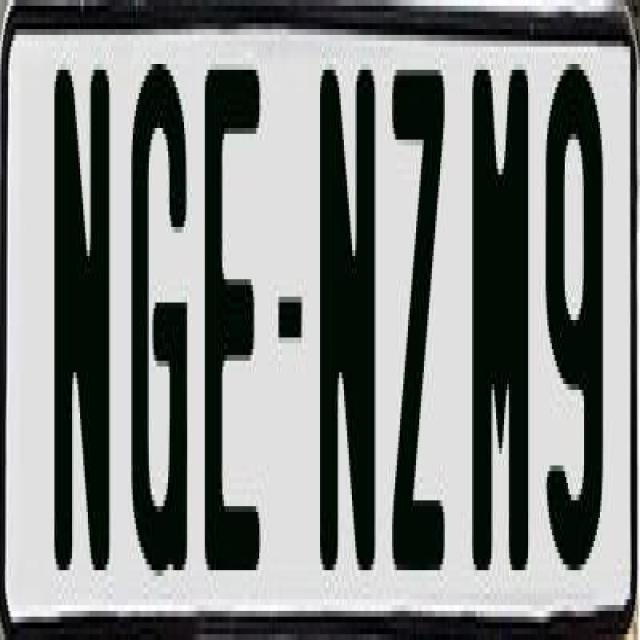9: (542, 52, 606, 558)
E: (202, 52, 260, 582)
G: (128, 52, 190, 564)
M: (470, 58, 528, 570)
N: (51, 64, 109, 582), (320, 63, 374, 600)
Z: (387, 70, 448, 570)
